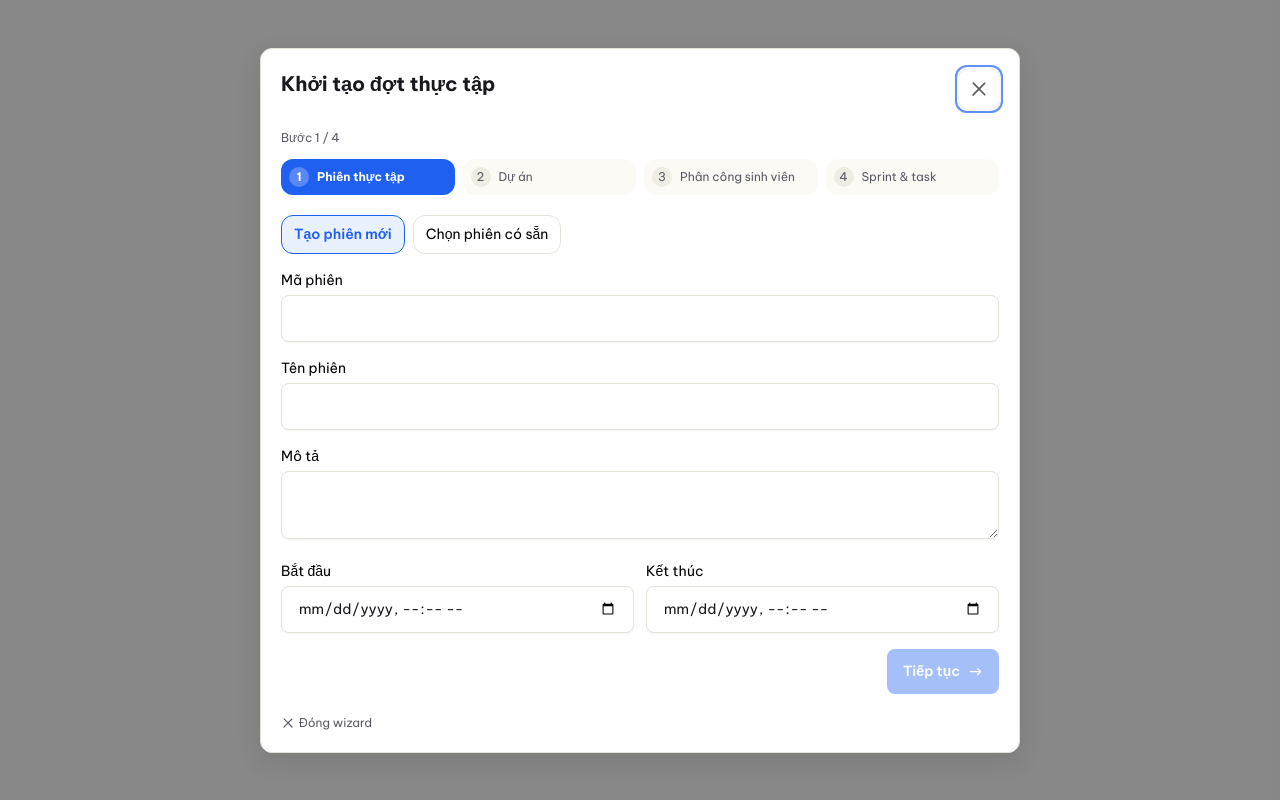
Test: SetupWizard › walks four steps and keeps session context without re-asking
This screenshot has width=1280, height=800.
Check: the heading "Khởi tạo đợt thực tập" is shown, box [281,68,496,98]
In the field labelled "Mã phiên": (640, 318) [281,294,999,342], type "SS-WZ-01"
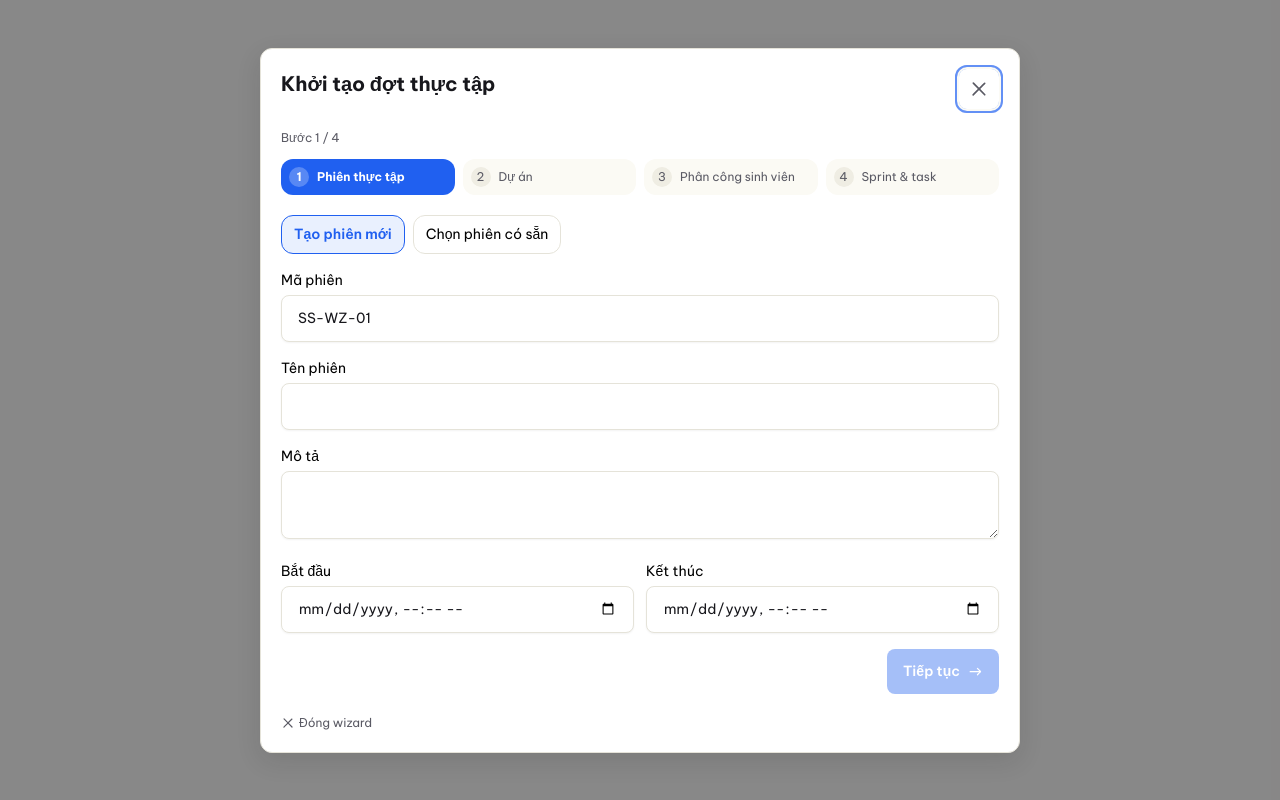
In the field labelled "Tên phiên": (640, 406) [281,382,999,430], type "Phiên wizard"
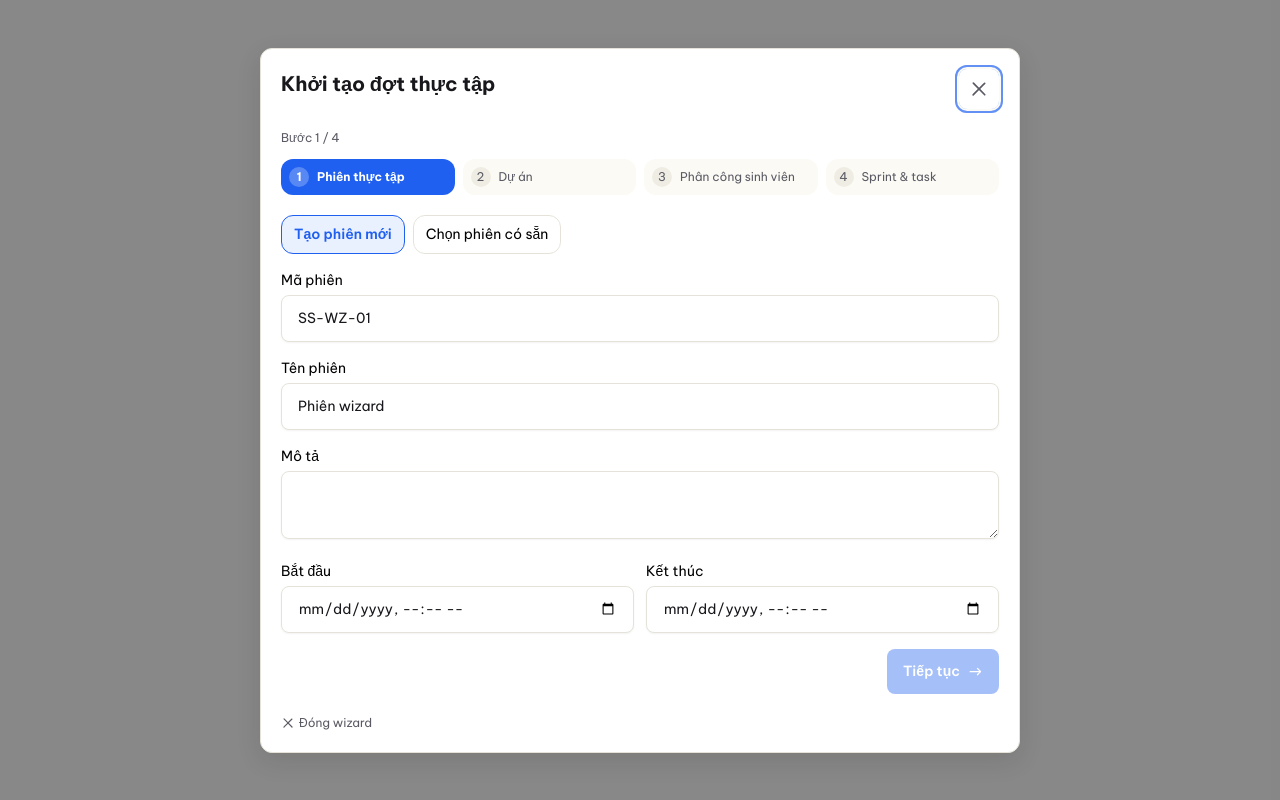
In the field labelled "Bắt đầu": (458, 609) [281,586,634,632], type "2026-11-01T00:00"
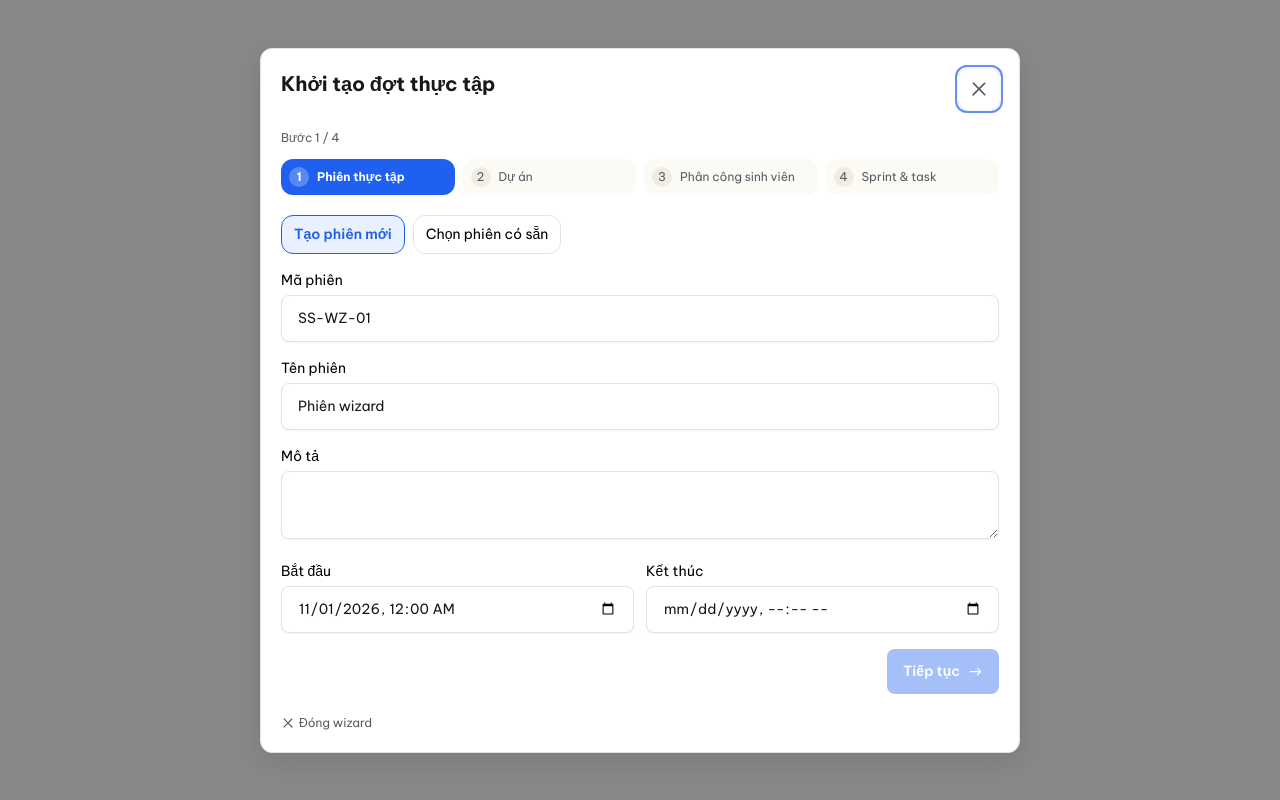
In the field labelled "Kết thúc": (822, 609) [646,586,999,632], type "2026-12-31T00:00"
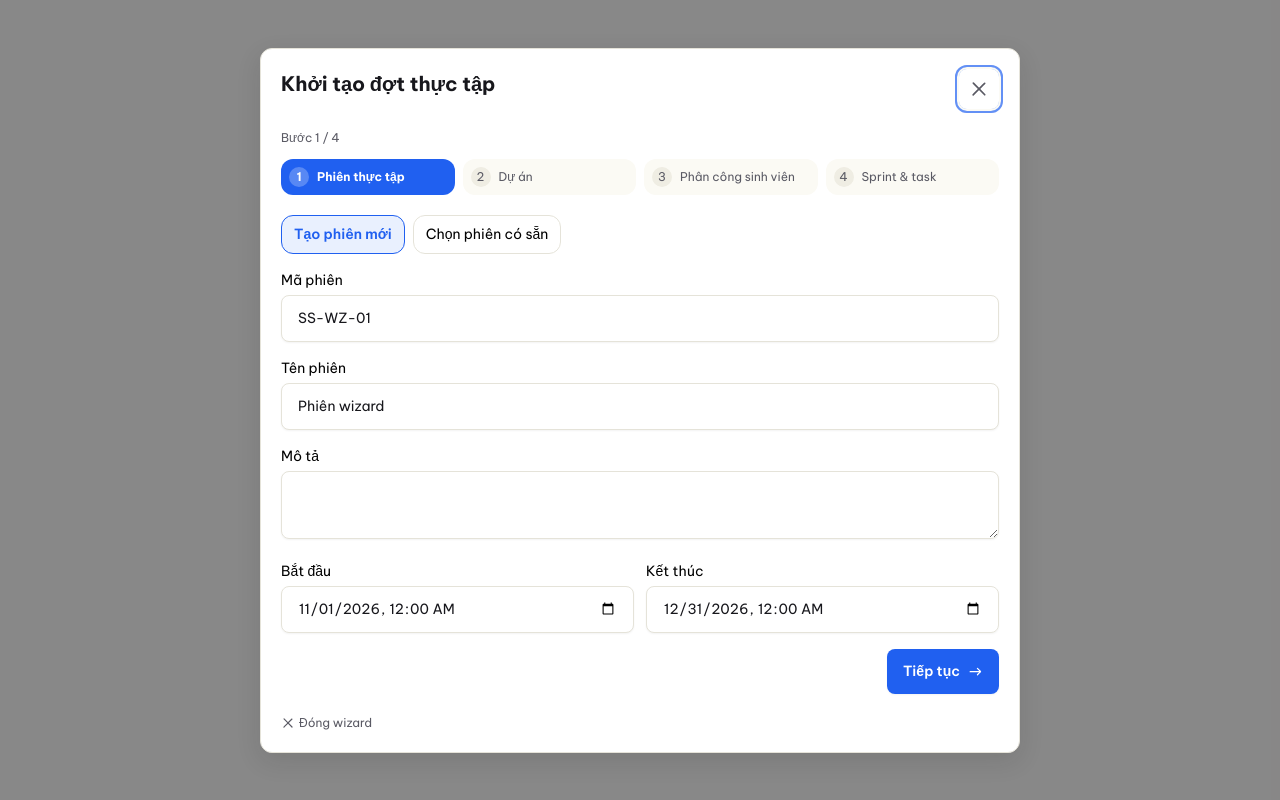
Click the button "Tiếp tục": (943, 671) [887,648,999,694]
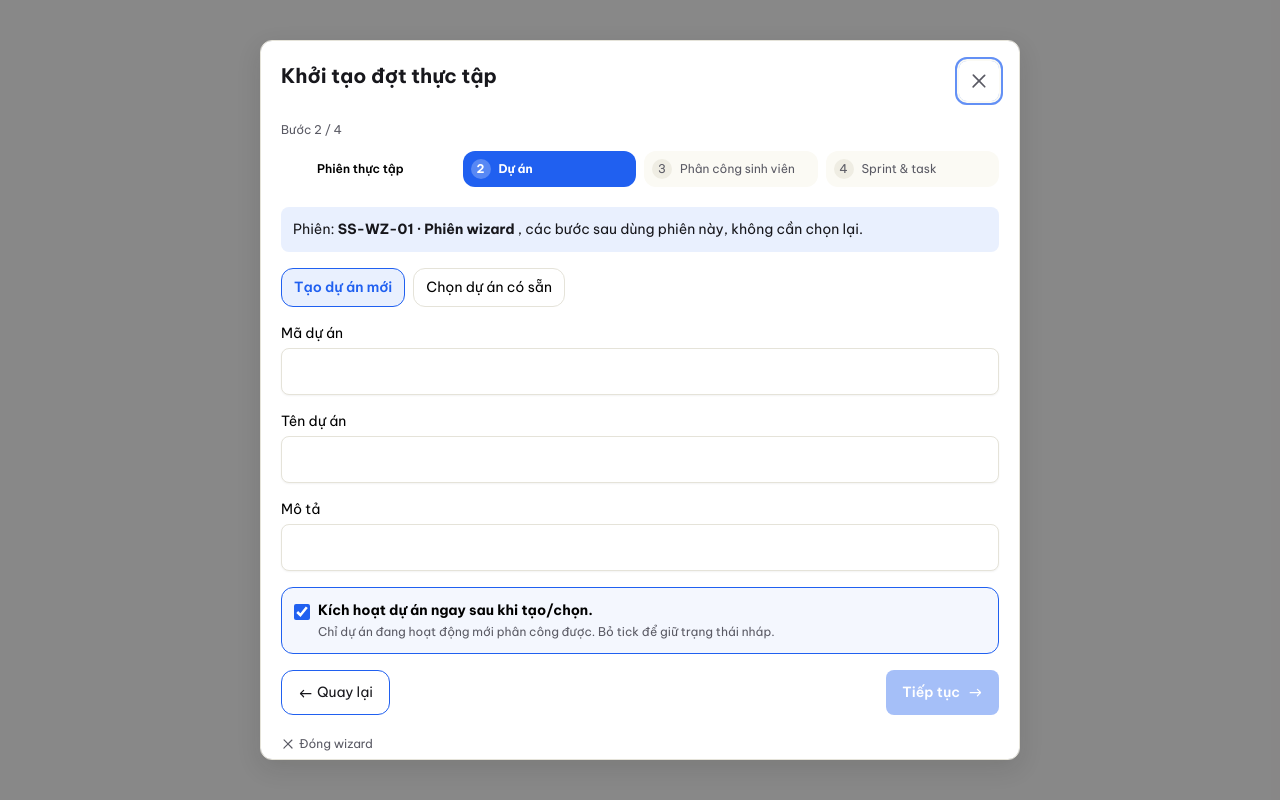
Check: the text "Bước 2 / 4" is shown, box [281,122,342,137]
